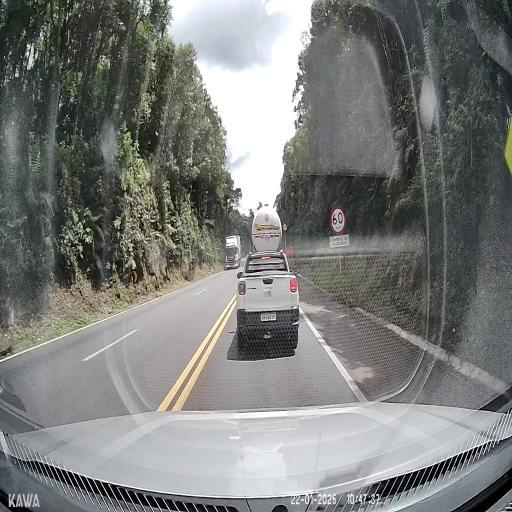R-19: (330, 206, 346, 235), (282, 223, 288, 231)
